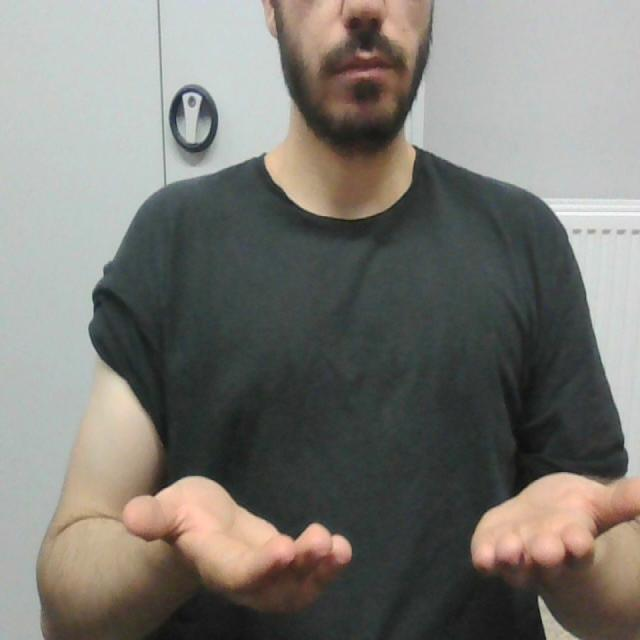Evet: (118, 468, 640, 623)
